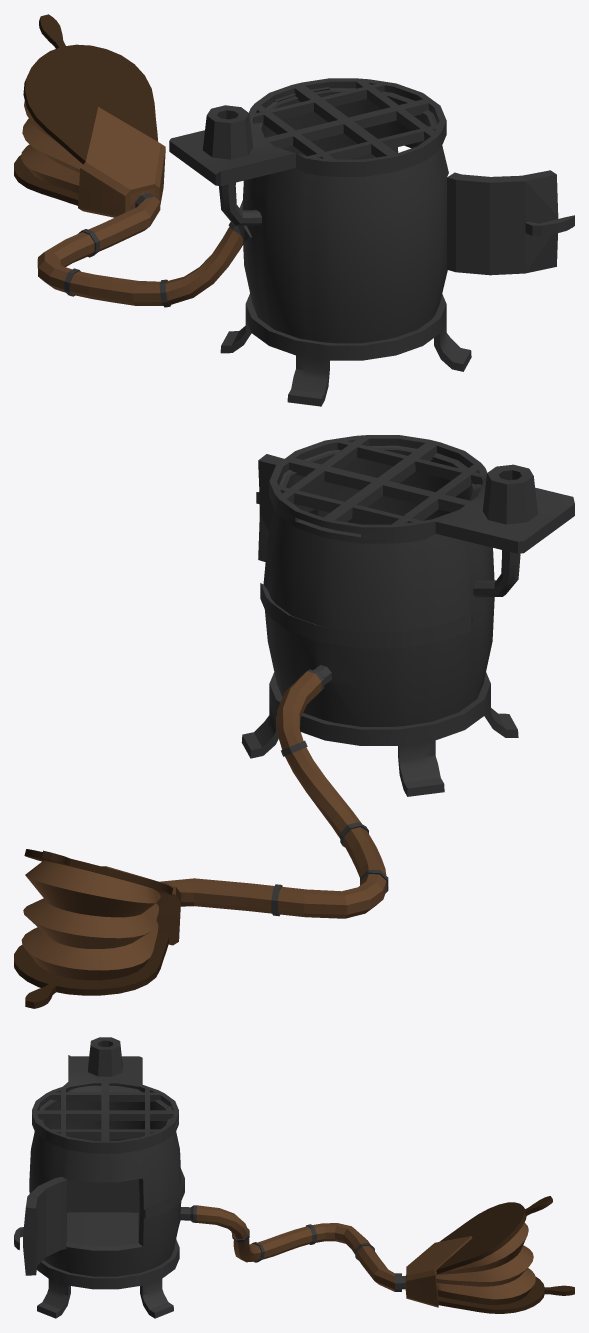
File: pech.fbx
3 renders of one model, top to bottom at view 1: azimuth 30°, elevation 25°; view 2: azimuth 150°, elevation 25°; view 3: azimuth 270°, elevation 25°, orthographic. The views are drawn at different scales.
Parts seen in each view (by area): view 1: Cylinder, Cylinder.002, Cylinder.001; view 2: Cylinder, Cylinder.002, Cylinder.001; view 3: Cylinder, Cylinder.002, Cylinder.001.
Part boxes in pixels (x1,y1,x2,y2): Cylinder: [37, 78, 471, 406]; Cylinder.002: [14, 14, 158, 205]; Cylinder.001: [447, 170, 574, 275]; Cylinder: [102, 435, 574, 945]; Cylinder.002: [14, 849, 172, 1008]; Cylinder.001: [256, 454, 329, 561]; Cylinder: [29, 1037, 472, 1318]; Cylinder.002: [435, 1196, 574, 1313]; Cylinder.001: [14, 1177, 66, 1275].
Bounding box in the file's own units: 4 × 3.32 × 8.11.
